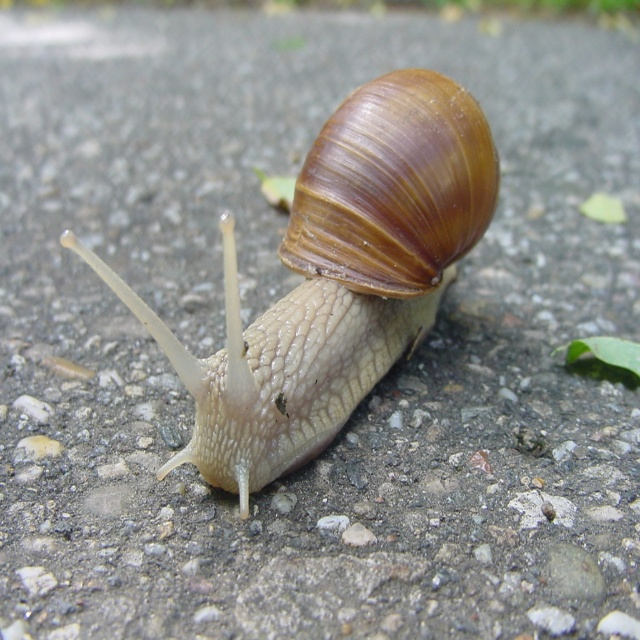Snail: (57, 67, 502, 522)
